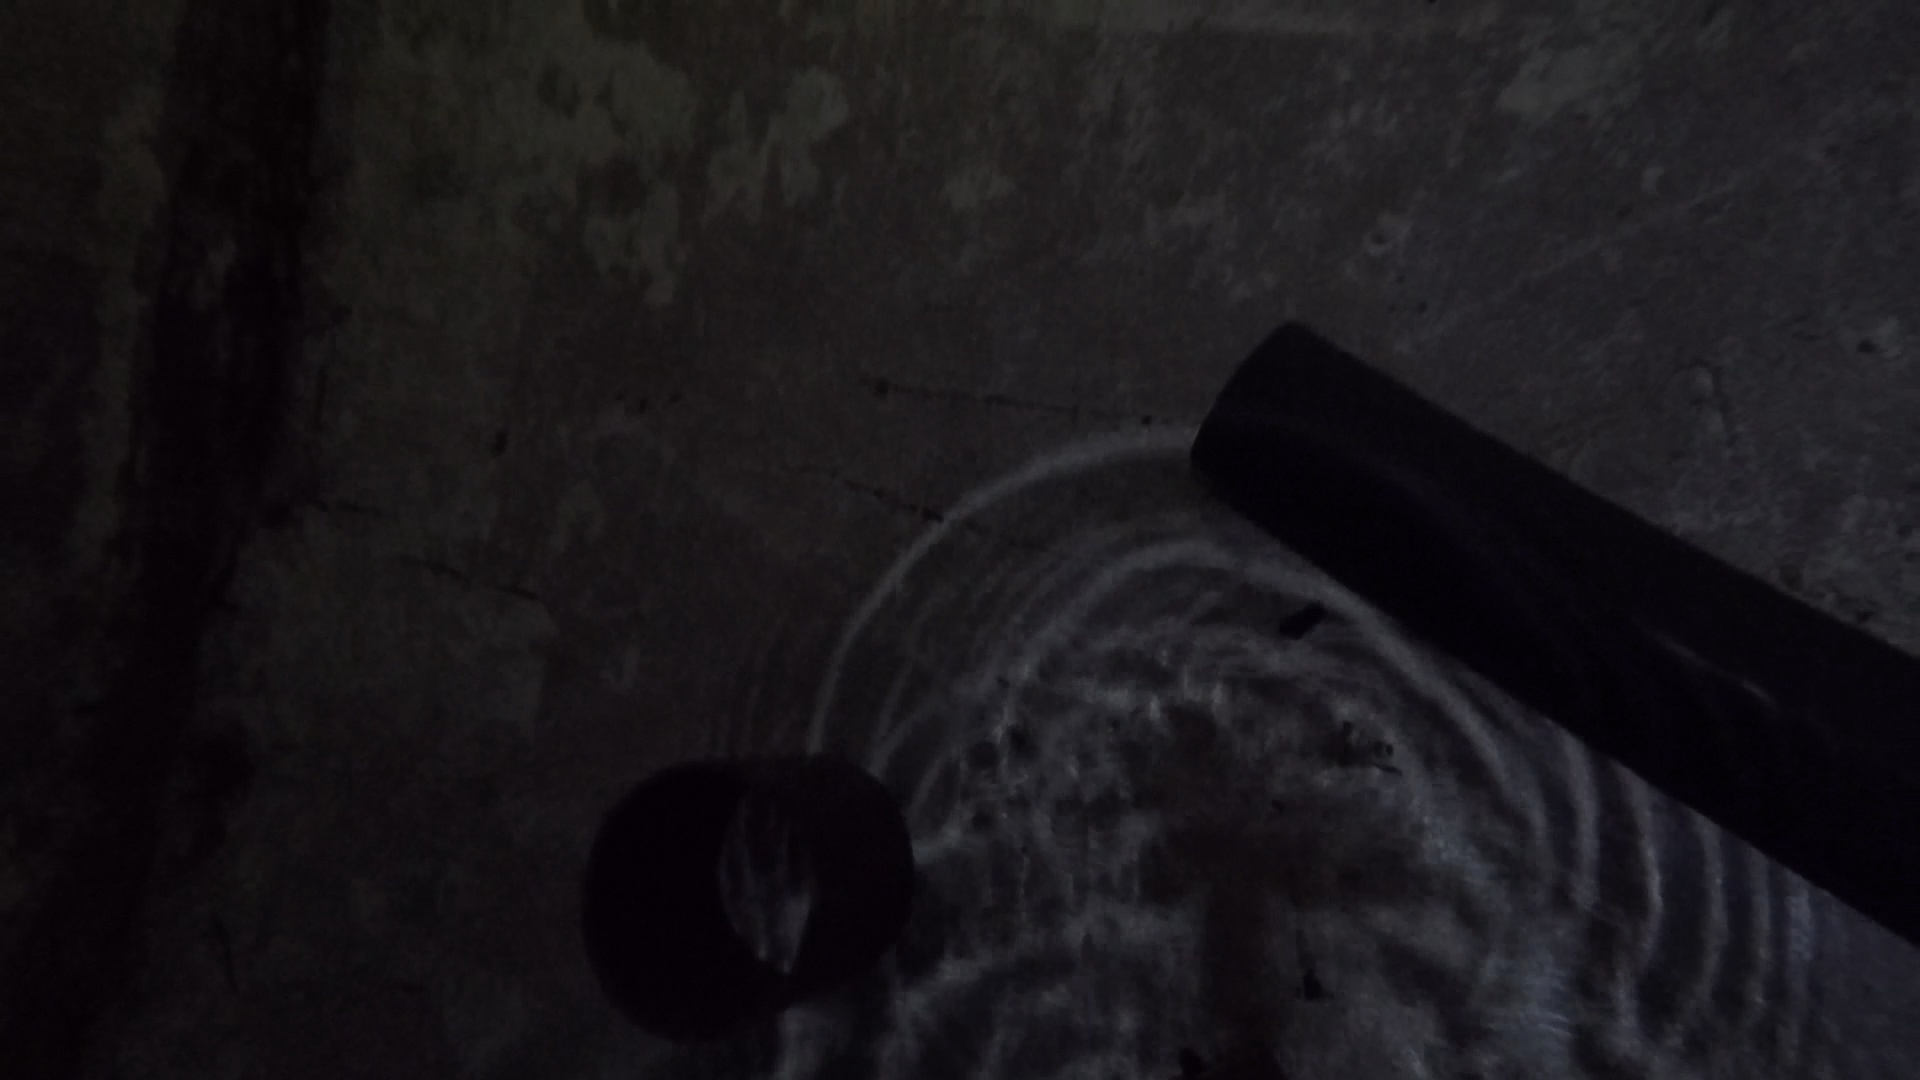pipe: (1188, 322, 1920, 945), (582, 752, 913, 1043)
